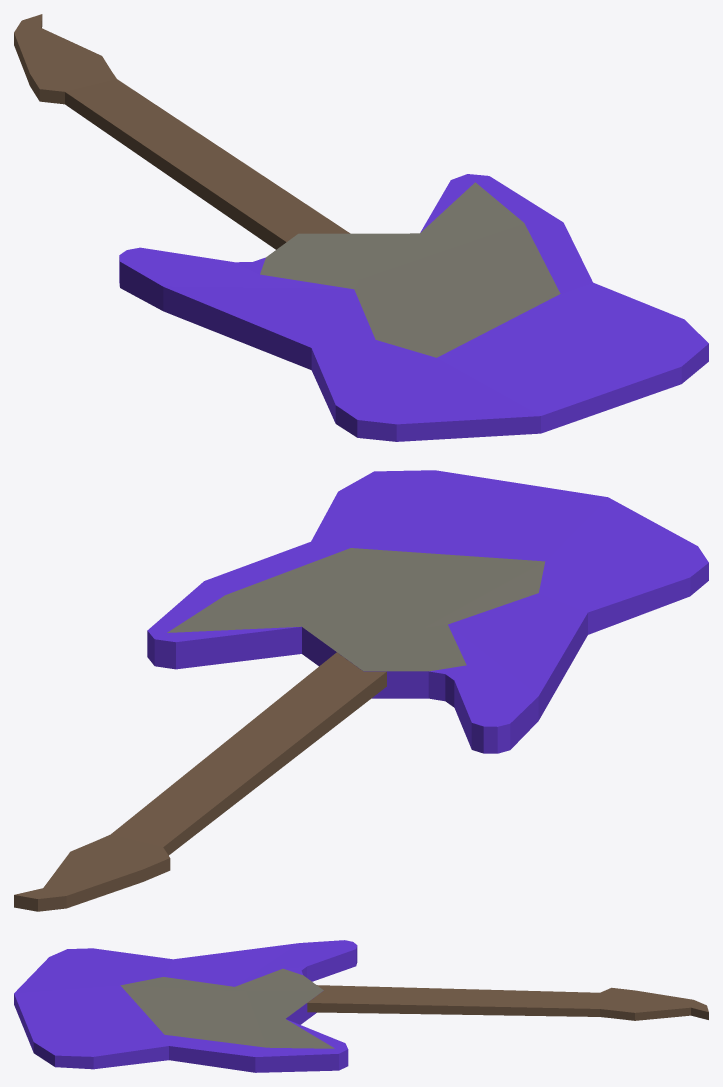
Rendered from Guitar.fbx.
The picture shows the model from 3 angles, top to bottom: view 1: azimuth 30°, elevation 25°; view 2: azimuth 150°, elevation 25°; view 3: azimuth 270°, elevation 25°; orthographic projection. The views are drawn at different scales.
Visible parts, largest first — view 1: Guitar; view 2: Guitar; view 3: Guitar.
Part boxes in pixels (x1=…): Guitar: x1=14, y1=14, x2=708, y2=441; Guitar: x1=14, y1=470, x2=708, y2=911; Guitar: x1=14, y1=940, x2=708, y2=1072.
Bounding box in the file's own units: 76.64 × 5.29 × 193.
